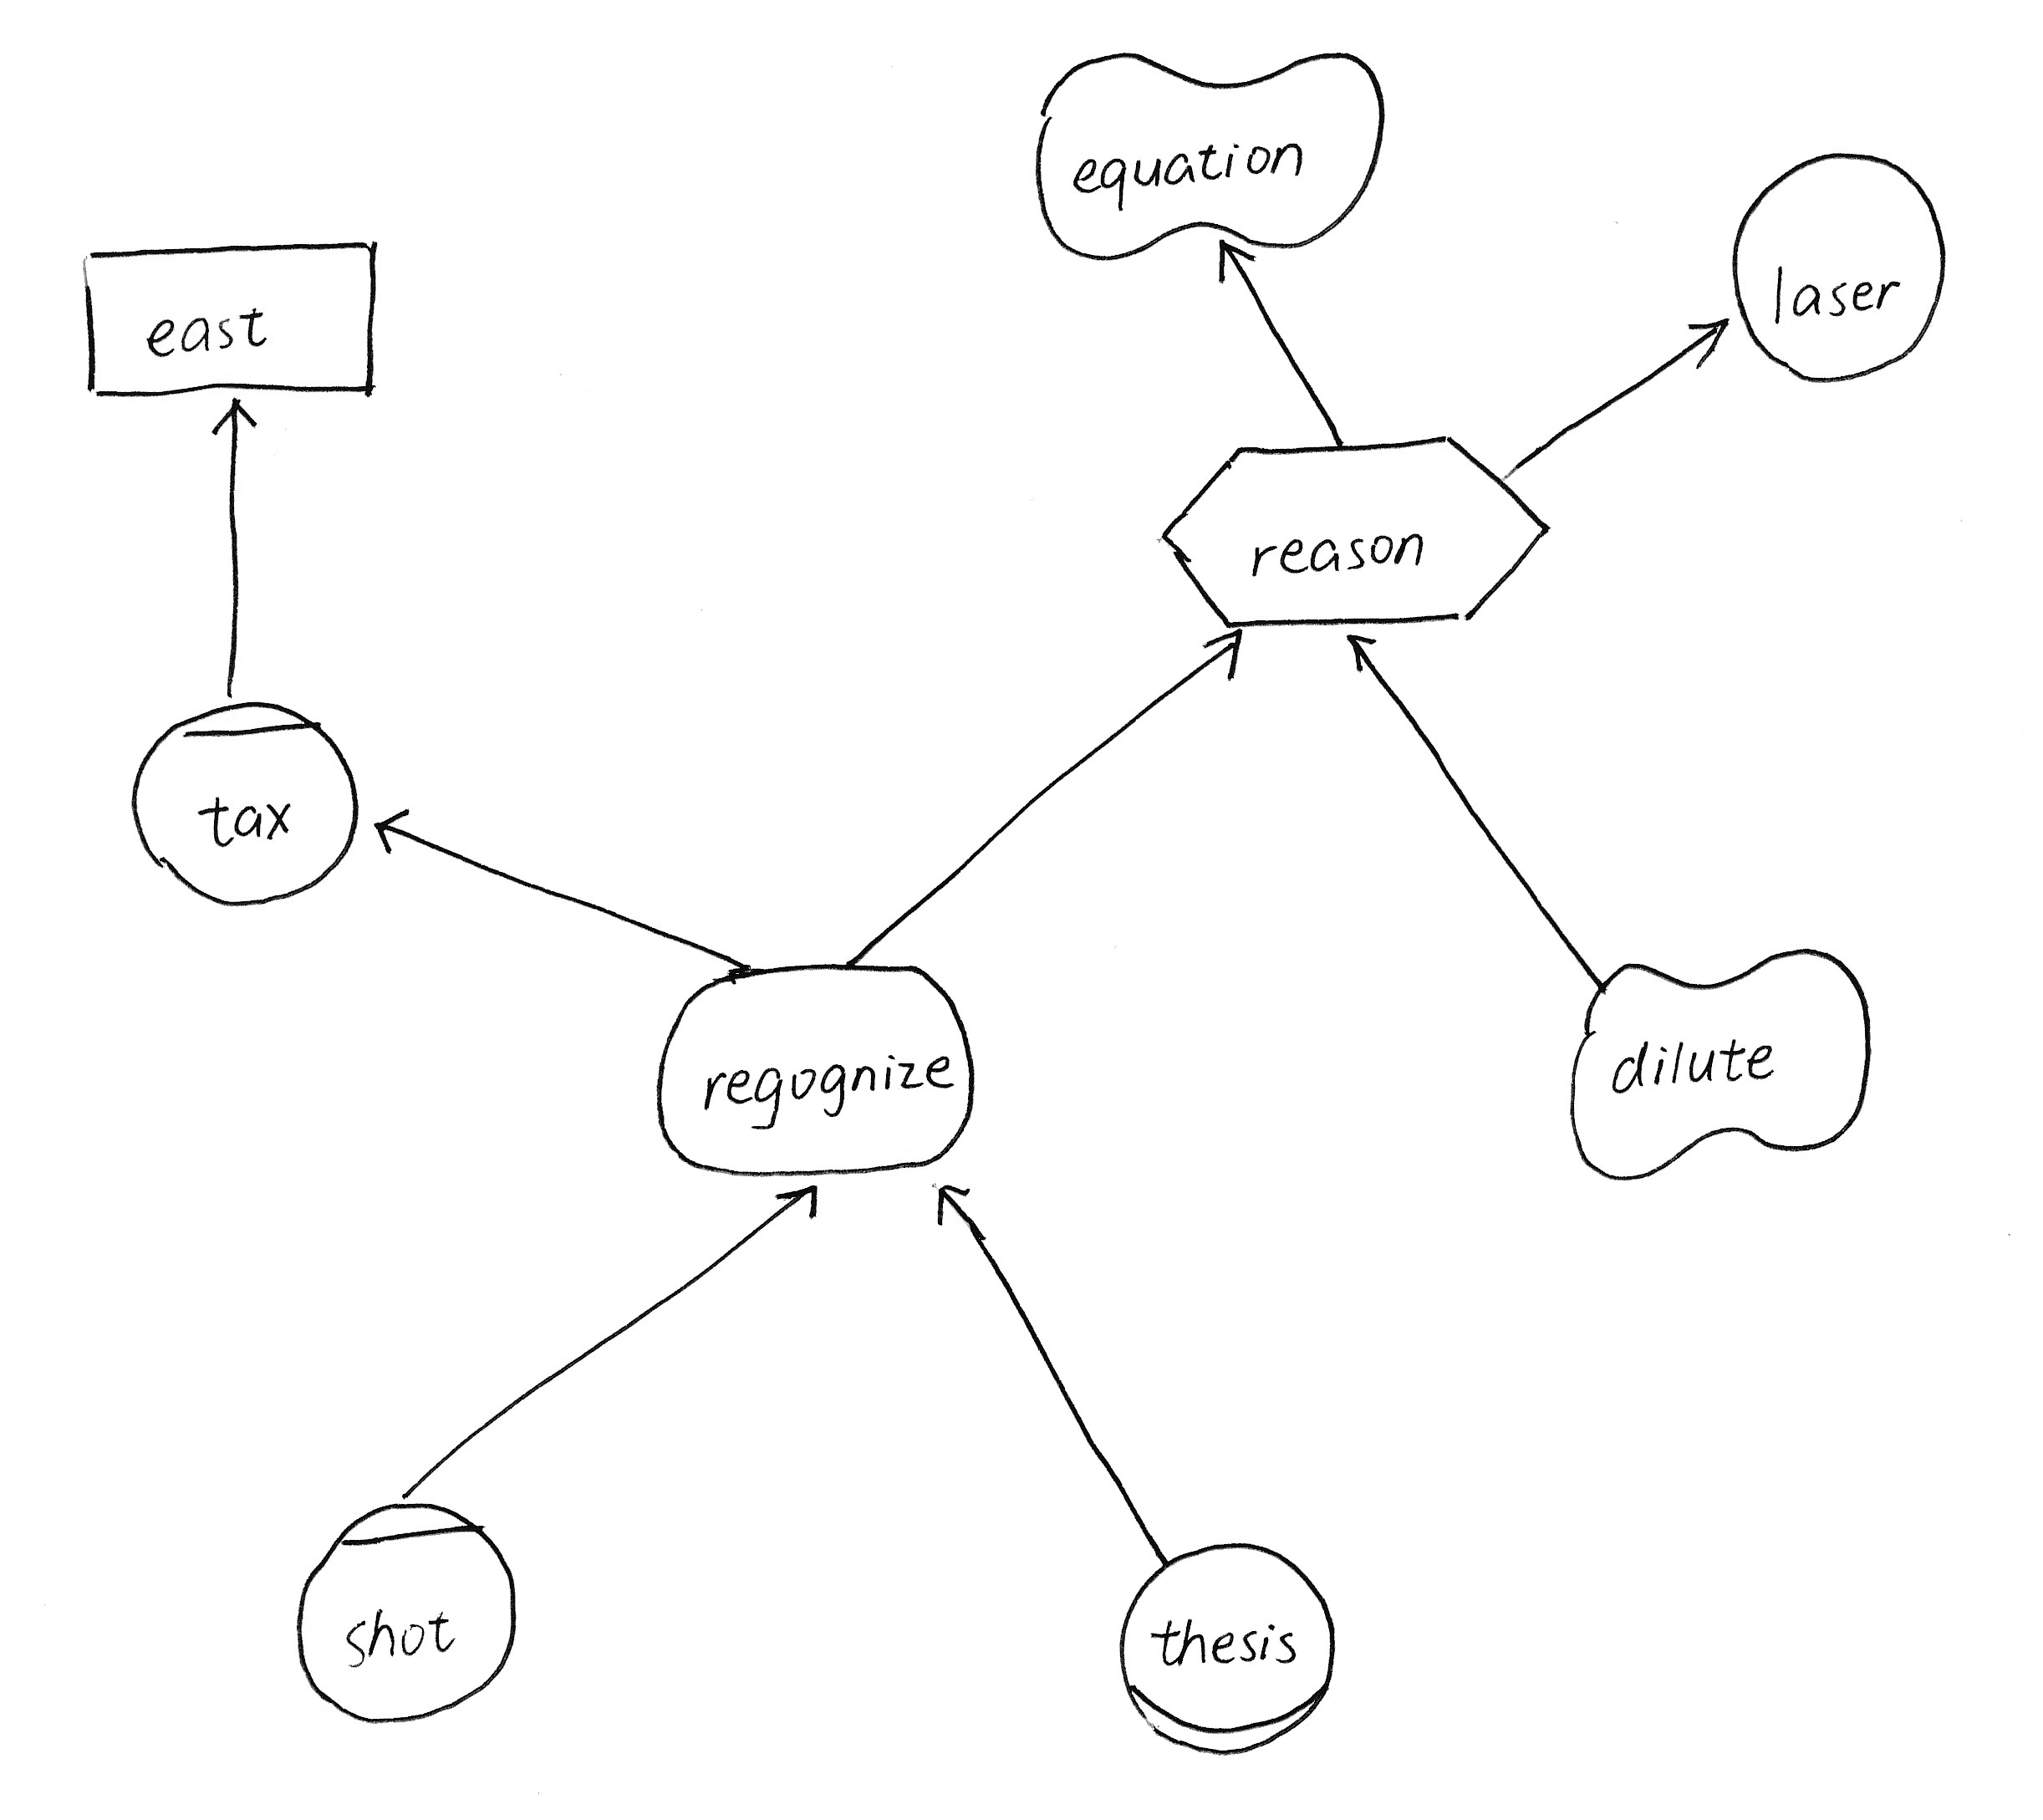actor: (1715, 137, 1962, 399)
agent: (285, 1490, 536, 1739), (118, 680, 374, 915)
arrow: (917, 1163, 991, 1242), (1198, 221, 1268, 300), (202, 379, 267, 455), (1195, 617, 1258, 689), (364, 784, 418, 866), (1337, 617, 1391, 689), (1679, 307, 1736, 376), (768, 1170, 829, 1231)
goal: (636, 936, 994, 1198)
quality: (1022, 35, 1409, 269), (1546, 929, 1887, 1193)
resource: (63, 225, 393, 418)
role: (1091, 1527, 1365, 1771)
task: (1142, 429, 1565, 646)
